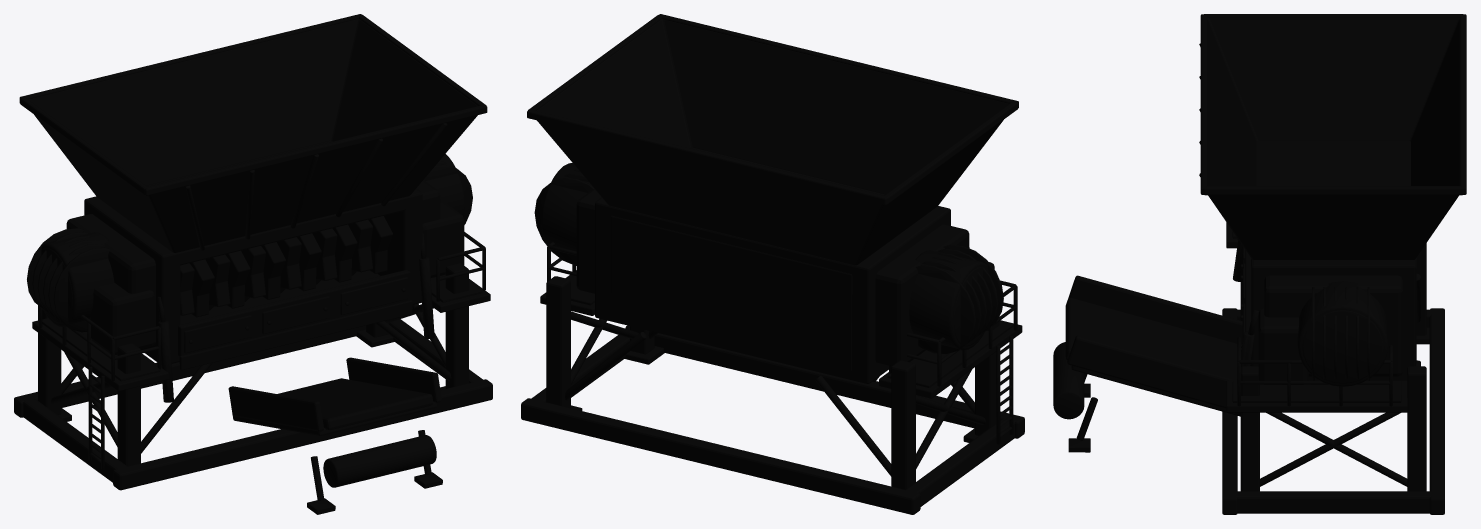
Rendered from industrial_scrap_shredder_static_atlas_roblox.glb.
3 renders of one model, left to right at view 1: azimuth 30°, elevation 25°; view 2: azimuth 150°, elevation 25°; view 3: azimuth 270°, elevation 25°, orthographic. The views are drawn at different scales.
Visible parts, largest first — view 1: IndustrialScrapShredder_Static; view 2: IndustrialScrapShredder_Static; view 3: IndustrialScrapShredder_Static.
Boxes of the visible parts, x1,y1,x2,y2 form: IndustrialScrapShredder_Static: [14, 14, 492, 514]; IndustrialScrapShredder_Static: [521, 14, 1024, 514]; IndustrialScrapShredder_Static: [1053, 14, 1466, 514].
Bounding box in the file's own units: 13.66 × 9.54 × 11.16.
Materials: 1 (1 with a texture image).
